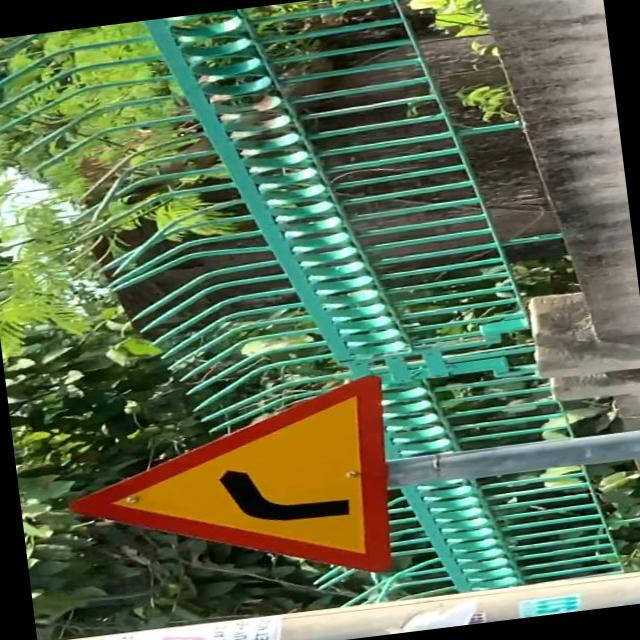W-201b: (57, 372, 404, 608)
